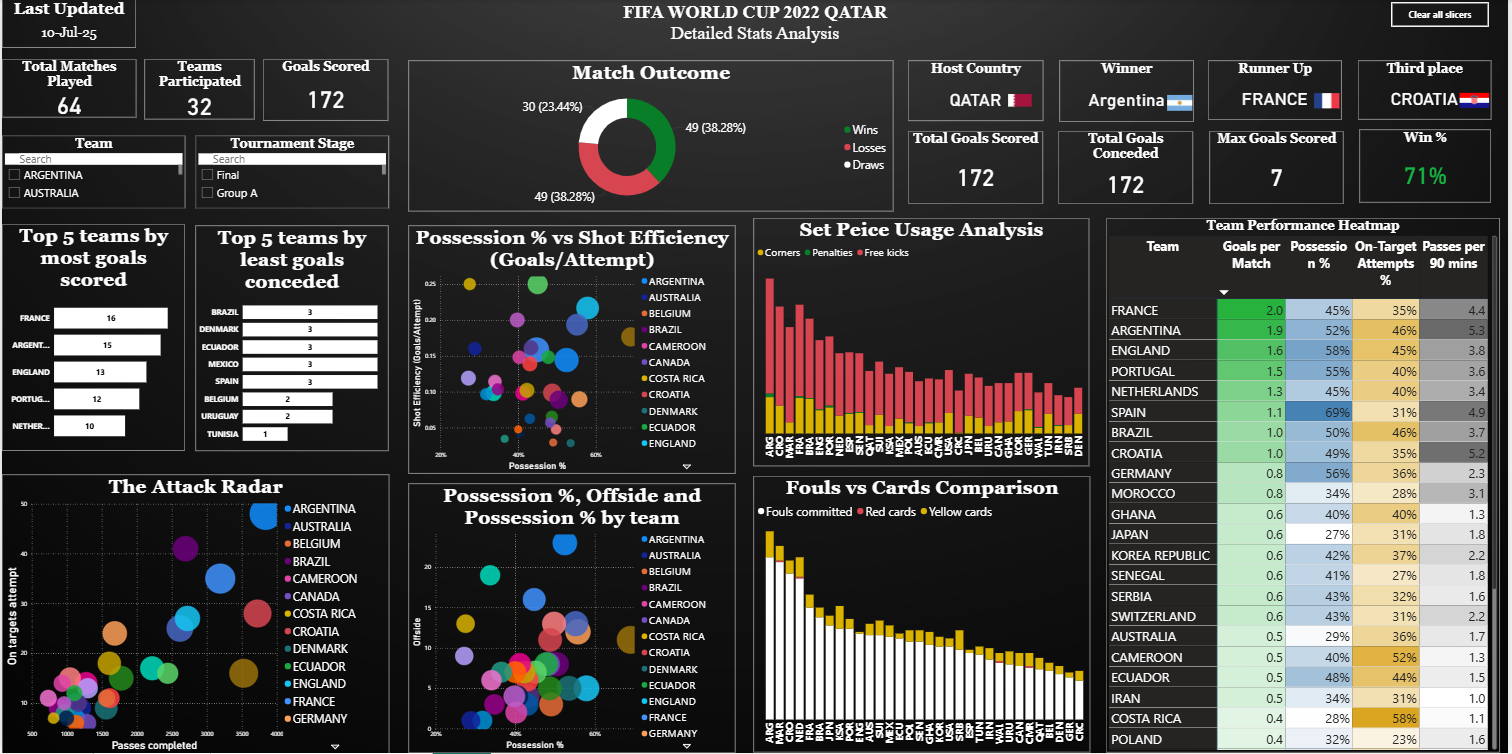

Layout of this report page (visuals, bound fields, positions):
{"tool":"powerbi","page":{"name":"Page-2","canvas":[3096,1550],"ordinal":0},"visuals":[{"type":"card","title":"Last Updated","fields":{"Values":["WorldCupResults.Today Date"]},"box":[0,0,275,100],"z":0},{"type":"slicer","title":"Tournament Stage","fields":{"Values":["Dup_working.tournament stage"]},"box":[397.3,280,397.3,150],"z":1000},{"type":"textbox","box":[1254.7,0,586.7,120],"z":2000},{"type":"slicer","title":"Team","fields":{"Values":["Dup_working.team"]},"box":[0,280,376.4,150],"z":3000},{"type":"clusteredBarChart","title":"Top 5 teams by least goals conceded","fields":{"Category":["Dup_working.team"],"Y":["Sum(Dup_working.total goals conceded)"]},"box":[397.3,466.4,396.4,463.6],"z":4000},{"type":"donutChart","title":"Match Outcome","fields":{"Y":["Sum(Dup_working.no of wins)","Sum(Dup_working.no of losses)","Sum(Dup_working.no of draws)"]},"box":[836.7,126.7,996.7,310],"z":5000},{"type":"card","title":"Total Matches Played","fields":{"Values":["WorldCupResults.Total Matches Played"]},"box":[0,122,276,120],"z":6000},{"type":"card","title":"Total Goals Scored","fields":{"Values":["Sum(Dup_working.total goals scored)"]},"box":[1863.6,272.3,277.5,150],"z":7000},{"type":"card","title":"Teams Participated","fields":{"Values":["CountNonNull(Dup_working.team)"]},"box":[294,122,226,124],"z":8000},{"type":"card","title":"Winner","fields":{"Values":["WorldCupResults.Champion"]},"box":[2173.3,126.7,276,126],"z":8000,"group":"g2"},{"type":"card","title":"Runner Up","fields":{"Values":["WorldCupResults.RunnerUp"]},"box":[2480,126.7,275,122],"z":9000,"group":"g3"},{"type":"clusteredBarChart","title":"Top 5 teams by most goals scored","fields":{"Category":["Dup_working.team"],"Y":["Sum(Dup_working.total goals scored)"]},"box":[0,464,376,466],"z":9000},{"type":"card","title":"Third place ","fields":{"Values":["WorldCupResults.ThirdPlace"]},"box":[2786.7,126.7,273.7,121],"z":10000,"group":"g4"},{"type":"card","title":"Max Goals Scored","fields":{"Values":["Max(Dup_working.max goals per match)"]},"box":[2481.1,272.3,275,150],"z":10000},{"type":"card","title":"Win %","fields":{"Values":["Max(Dup_working.win %)"]},"box":[2791.1,267.3,270,150],"z":11000},{"type":"card","title":"Total Goals Conceded","fields":{"Values":["Sum(Dup_working.total goals conceded)"]},"box":[2171.1,272.3,277.5,150],"z":12000},{"type":"card","title":"Goals Scored","fields":{"Values":["Sum(Dup_working.total goals scored)"]},"box":[536.4,121.8,257.3,126.4],"z":13000},{"type":"columnChart","title":"Fouls vs Cards Comparison","fields":{"Y":["Sum(Dup_working.fouls against team)","Sum(Dup_working.red cards team)","Sum(Dup_working.yellow cards team)"],"Category":["WorldCupTeams.Code"]},"box":[1545.6,981.5,692.2,567.7],"z":14000},{"type":"scatterChart","fields":{"X":["Sum(Dup_working.avg possession team)"],"Y":["Sum(Dup_working.offsides team)"],"Series":["Dup_working.team"],"Size":["Sum(Dup_working.avg possession team)"]},"box":[836,996,672,554],"z":15000},{"type":"scatterChart","title":"Possession % vs Shot Efficiency (Goals/Attempt)","fields":{"X":["Sum(Dup_working.avg possession team)"],"Series":["Dup_working.team"],"Y":["WorldCupResults.Shot Efficiency"],"Size":["Sum(Dup_working.total goals scored)"]},"box":[836,466,672,510],"z":16000},{"type":"card","title":"Host Country","fields":{"Values":["WorldCupResults.Host"]},"box":[1863.3,126.7,277.7,124.2],"z":17000,"group":"g1"},{"type":"columnChart","title":"Set Peice Usage Analysis","fields":{"Y":["Sum(Dup_working.corners team)","Sum(Dup_working.penalties scored team)","Sum(Dup_working.free kicks team)"],"Category":["WorldCupTeams.Code"]},"box":[1546.1,450.6,690,510],"z":17000},{"type":"image","box":[2064.9,181.1,58.8,52.2],"z":18000,"group":"g1"},{"type":"scatterChart","title":"The Attack Radar ","fields":{"X":["Sum(Dup_working.passes completed team)"],"Series":["Dup_working.team"],"Y":["Sum(Dup_working.on target attempts team)"],"Size":["Sum(Dup_working.completed defensive line breaksteam)"]},"box":[0,976,796,574],"z":18000},{"type":"image","box":[2989.1,185.8,71,47],"z":19000,"group":"g4"},{"type":"pivotTable","title":"Team Performance Heatmap","fields":{"Rows":["Dup_working.team"],"Values":["Matches Played.Goals per Match","Sum(Dup_working.avg possession team)","Matches Played.On-Target Rate %","Matches Played.Passes per 90"]},"box":[2270.7,450.5,809.4,1098.7],"z":19000},{"type":"group","id":"g1","title":"Group 1","box":[1863.3,126.7,280,120],"z":20000},{"type":"image","box":[2692.4,178,62.3,61.2],"z":20000,"group":"g3"},{"type":"group","id":"g2","title":"Group 2","box":[2173.3,126.7,280,126.7],"z":21000},{"type":"image","box":[2390,191.5,62.5,44.6],"z":21000,"group":"g2"},{"type":"group","id":"g3","title":"Group 3","box":[2480,126.7,273.3,120],"z":22000},{"type":"group","id":"g4","title":"Group 4","box":[2786.7,126.7,273.3,123.3],"z":23000},{"type":"actionButton","box":[2856.7,7.3,201.4,51.3],"z":24000}]}

Visuals, with their boxes in screenshot pixels (x1, y1, x2, y2), scaled from the page's 3096x1550 canvas onto the 1512x754 screenshot:
"Last Updated" card: left=0, top=0, right=134, bottom=49
"Tournament Stage" slicer: left=194, top=136, right=388, bottom=209
textbox: left=613, top=0, right=899, bottom=58
"Team" slicer: left=0, top=136, right=184, bottom=209
"Top 5 teams by least goals conceded" clusteredBarChart: left=194, top=227, right=388, bottom=452
"Match Outcome" donutChart: left=409, top=62, right=895, bottom=212
"Total Matches Played" card: left=0, top=59, right=135, bottom=118
"Total Goals Scored" card: left=910, top=132, right=1046, bottom=205
"Teams Participated" card: left=144, top=59, right=254, bottom=120
"Winner" card: left=1061, top=62, right=1196, bottom=123
"Runner Up" card: left=1211, top=62, right=1345, bottom=121
"Top 5 teams by most goals scored" clusteredBarChart: left=0, top=226, right=184, bottom=452
"Third place " card: left=1361, top=62, right=1495, bottom=120
"Max Goals Scored" card: left=1212, top=132, right=1346, bottom=205
"Win %" card: left=1363, top=130, right=1495, bottom=203
"Total Goals Conceded" card: left=1060, top=132, right=1196, bottom=205
"Goals Scored" card: left=262, top=59, right=388, bottom=121
"Fouls vs Cards Comparison" columnChart: left=755, top=477, right=1093, bottom=753
scatterChart - Sum(Dup_working.avg possession team) x Sum(Dup_working.offsides team): left=408, top=485, right=736, bottom=753
"Possession % vs Shot Efficiency (Goals/Attempt)" scatterChart: left=408, top=227, right=736, bottom=475
"Host Country" card: left=910, top=62, right=1046, bottom=122
"Set Peice Usage Analysis" columnChart: left=755, top=219, right=1092, bottom=467
image: left=1008, top=88, right=1037, bottom=113
"The Attack Radar " scatterChart: left=0, top=475, right=389, bottom=753
image: left=1460, top=90, right=1494, bottom=113
"Team Performance Heatmap" pivotTable: left=1109, top=219, right=1504, bottom=753
"Group 1" group: left=910, top=62, right=1047, bottom=120
image: left=1315, top=87, right=1345, bottom=116
"Group 2" group: left=1061, top=62, right=1198, bottom=123
image: left=1167, top=93, right=1198, bottom=115
"Group 3" group: left=1211, top=62, right=1345, bottom=120
"Group 4" group: left=1361, top=62, right=1494, bottom=122
actionButton: left=1395, top=4, right=1493, bottom=29
